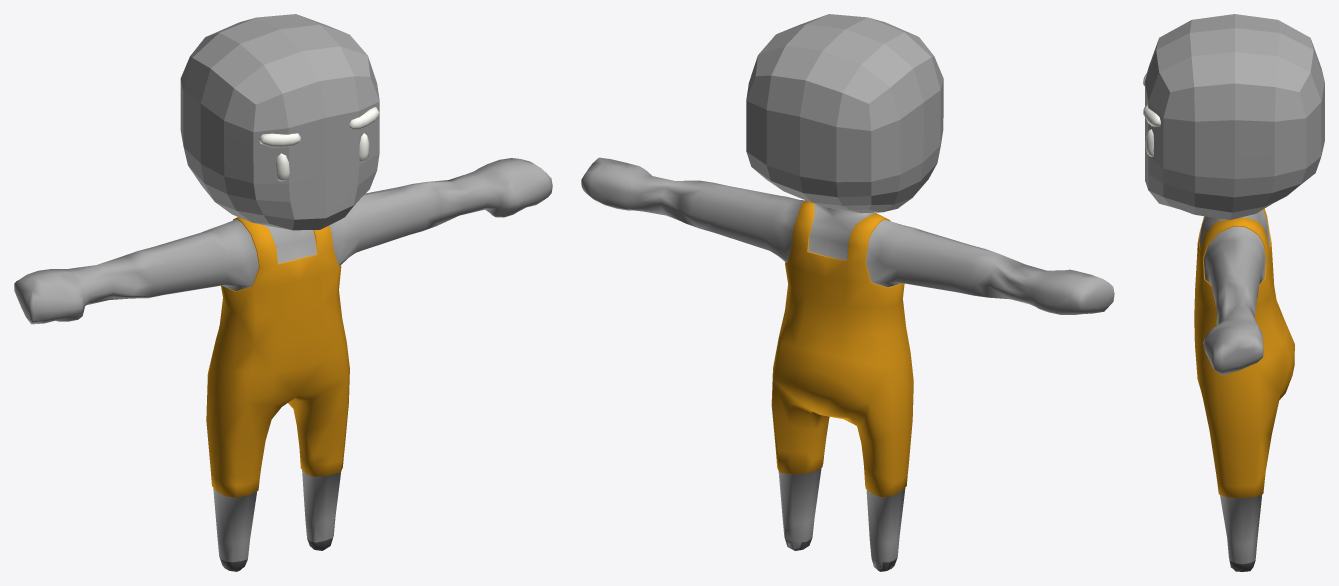
Rendered from _BaseCharacter@Neutral Idle 1.fbx.
3 views of the same model, side by side, from view 1: azimuth 30°, elevation 25°; view 2: azimuth 150°, elevation 25°; view 3: azimuth 270°, elevation 25° (orthographic). The views are drawn at different scales.
Visible parts, largest first — view 1: Body, Body.006; view 2: Body, Body.006; view 3: Body.006, Body.
Part boxes in pixels (x1,y1,x2,y2): Body: [14, 158, 552, 571]; Body.006: [180, 14, 379, 230]; Body: [581, 157, 1114, 571]; Body.006: [746, 14, 943, 213]; Body.006: [1145, 14, 1324, 219]; Body: [1194, 209, 1294, 571].
Size of the model in its own units: 324 by 315 by 99.31.
